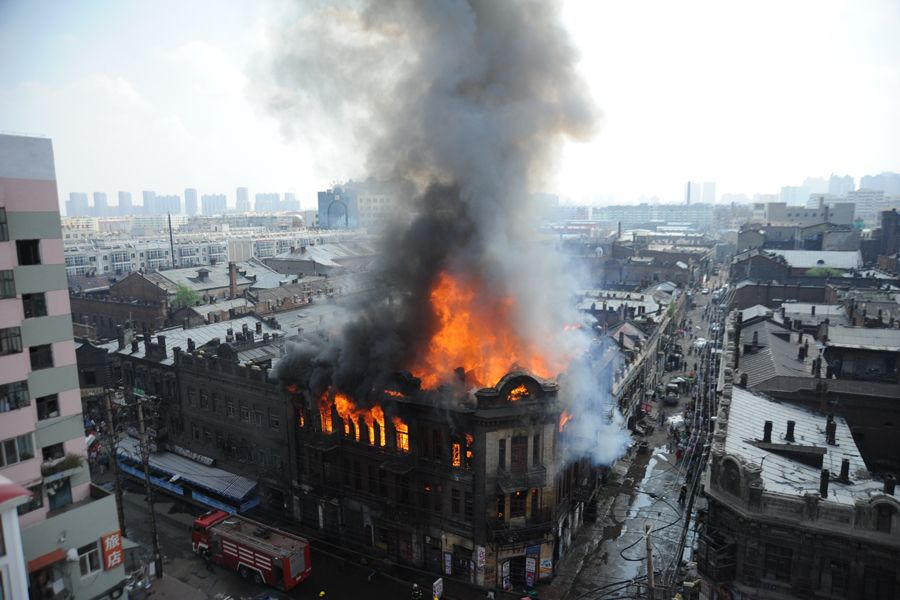fire: (355, 236, 568, 401)
